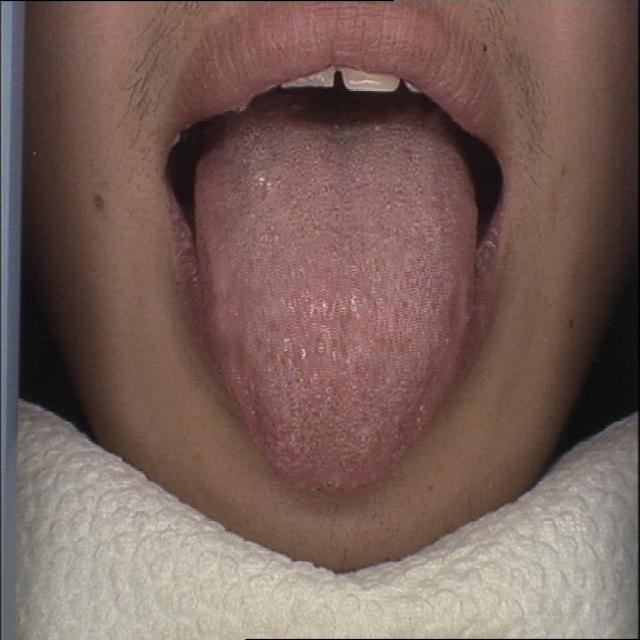tongue: (184, 108, 483, 506)
